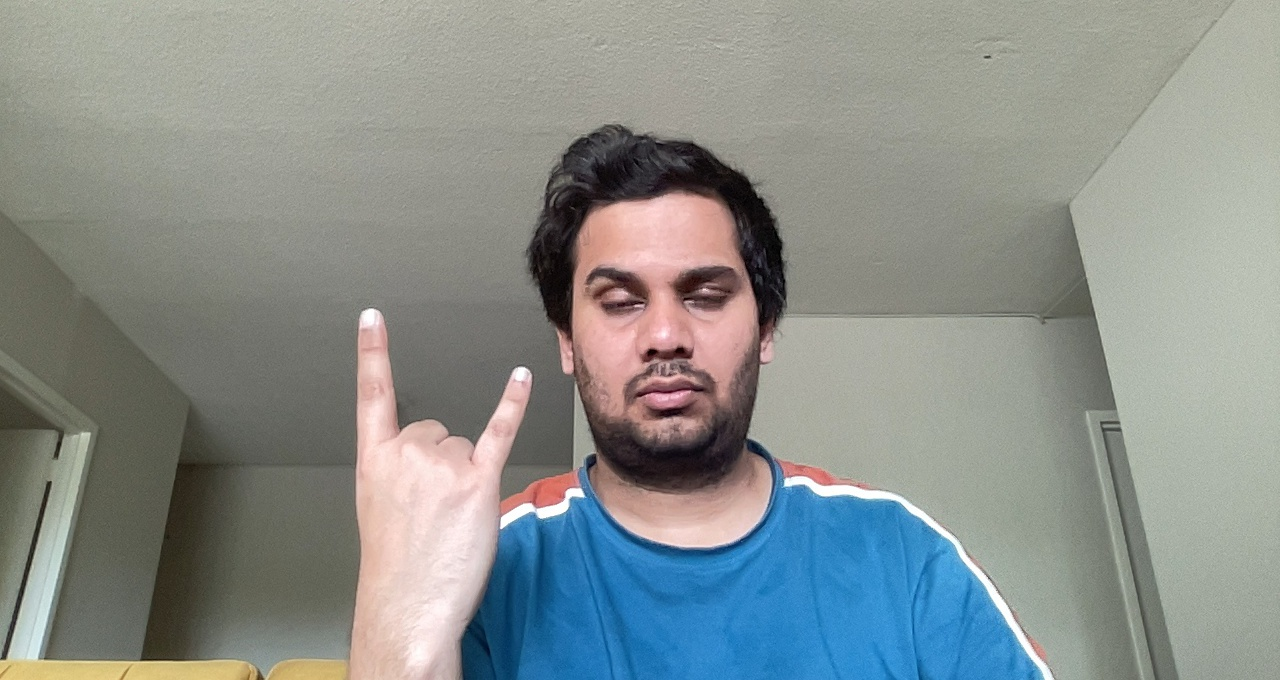rockon sign: (341, 303, 543, 618)
